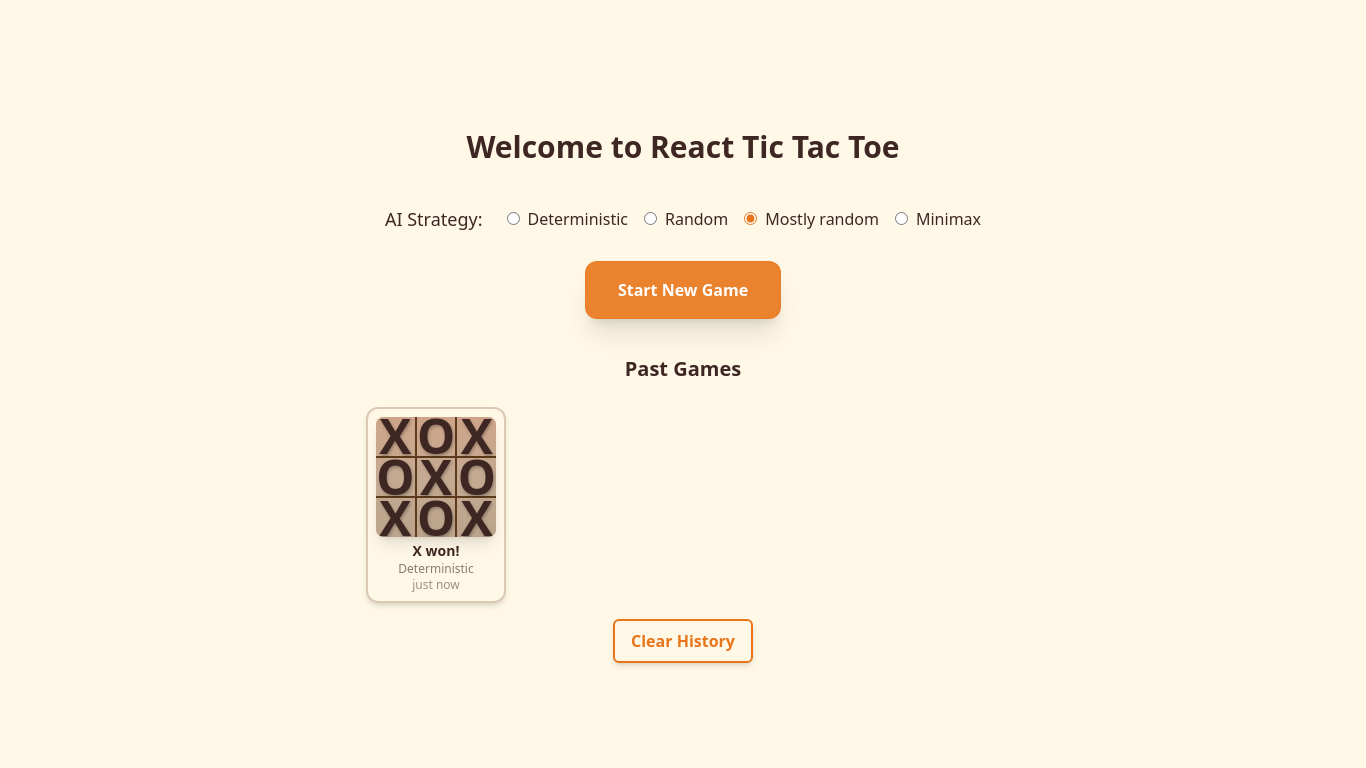
Test case: App › Clear History confirmation dialog › shows confirmation dialog when Clear History is clicked
Click the button with test id "clear-history-button".
click(683, 641)  # box x1=613 y1=619 x2=753 y2=663
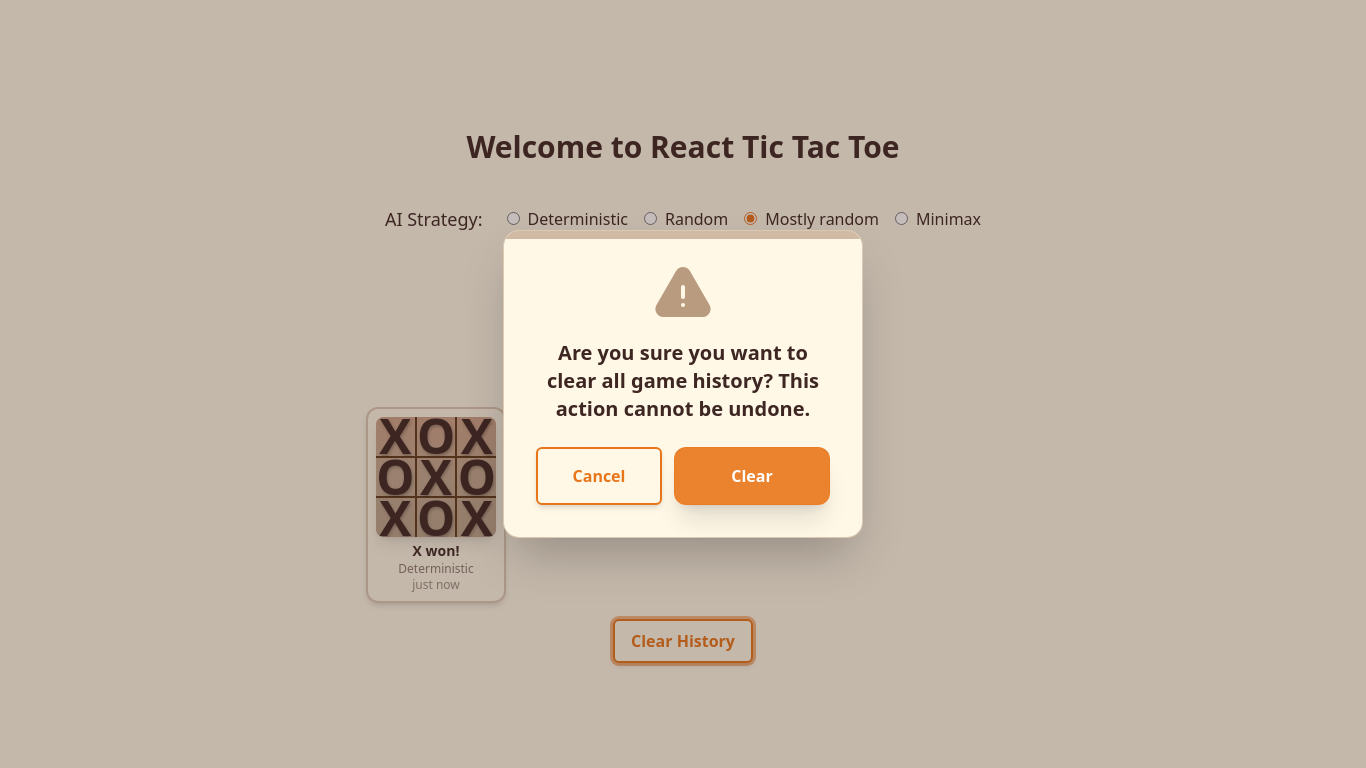
Result: the text with test id "clear-history-dialog-message" reads "Are you sure you want to clear all game history? This action cannot be undone." at x1=547 y1=339 x2=819 y2=422
Result: the button "Cancel" is shown at x1=536 y1=447 x2=662 y2=505
Result: the button "Clear" is shown at x1=674 y1=447 x2=830 y2=505
